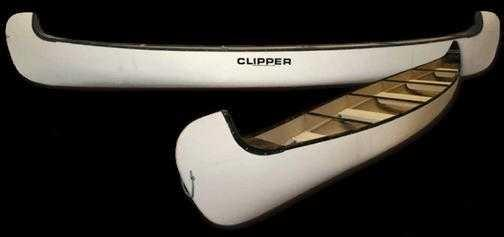kayak: (175, 39, 483, 227)
